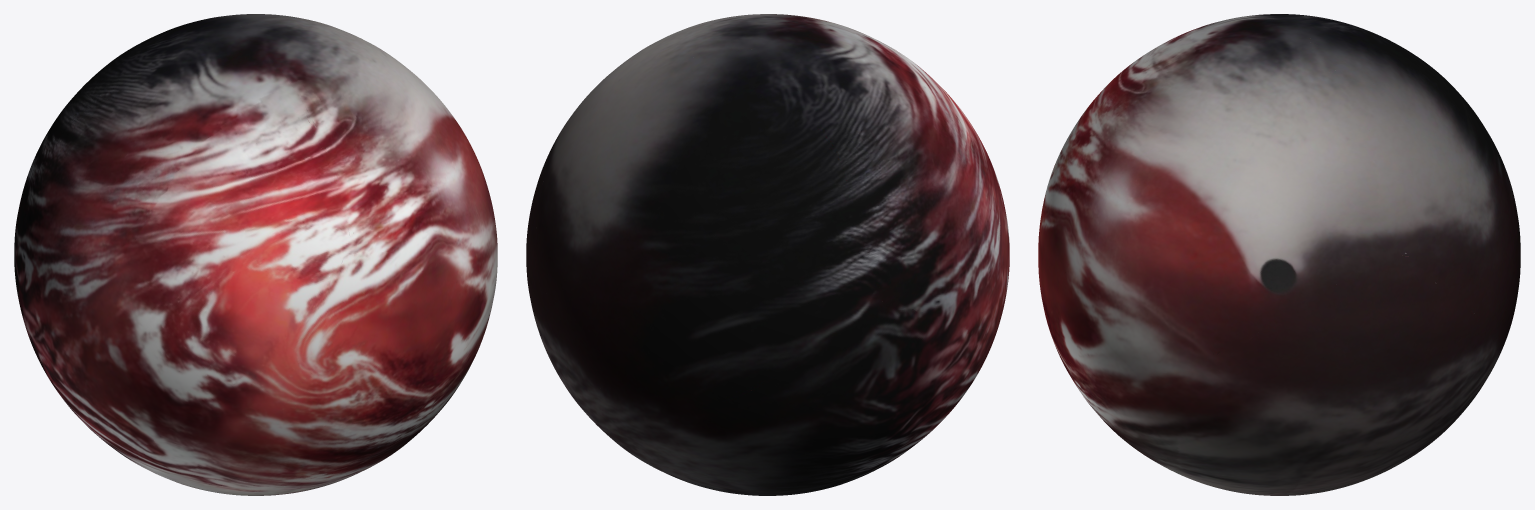
File: Crimson_Swirl_Planet.glb
The picture shows the model from 3 angles, left to right: view 1: azimuth 30°, elevation 25°; view 2: azimuth 150°, elevation 25°; view 3: azimuth 270°, elevation 25°; orthographic projection.
Bounding box in the file's own units: 2 × 2 × 2.
Materials: 1 (1 with a texture image).
